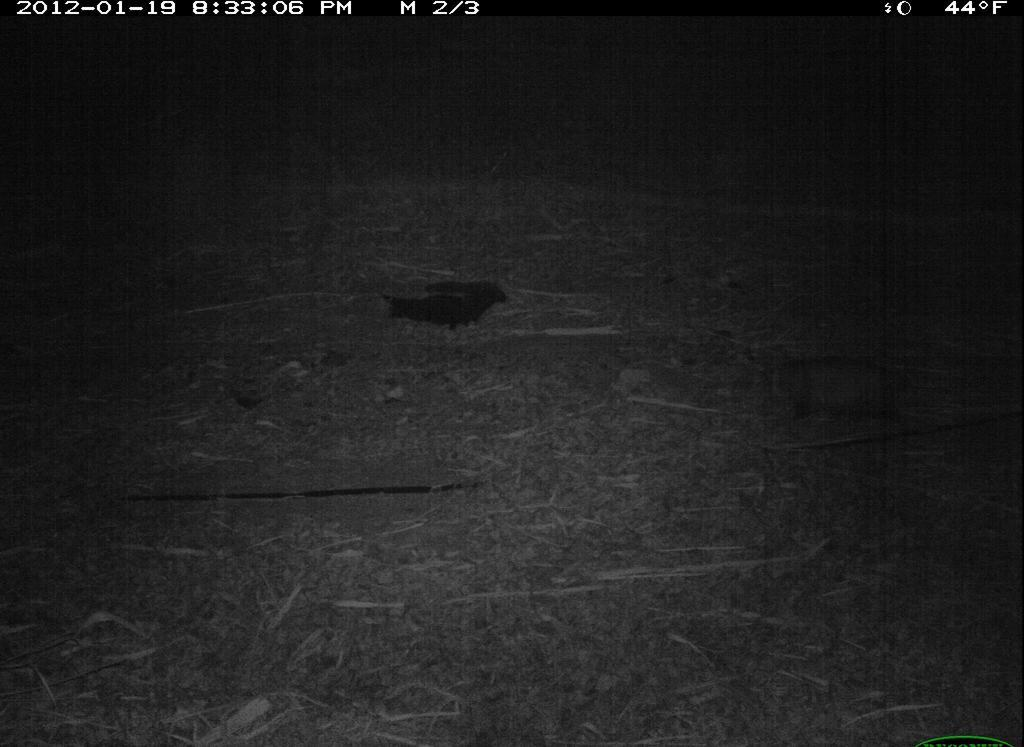opossum: (754, 347, 944, 450)
